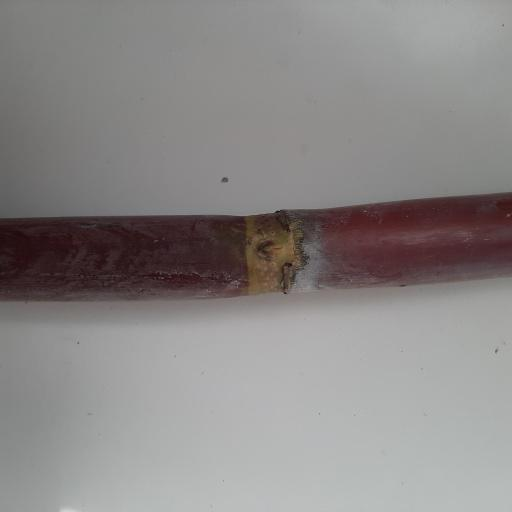Bud: (253, 238, 284, 263)
